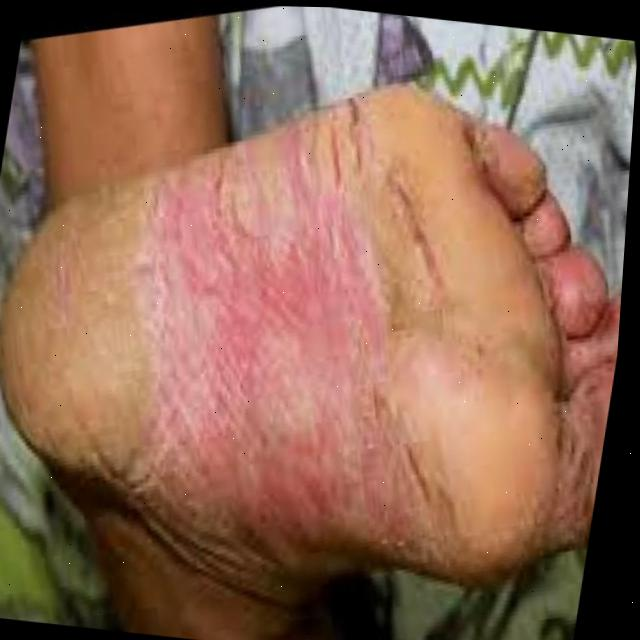Eczema: (137, 172, 426, 524), (457, 158, 630, 455)
